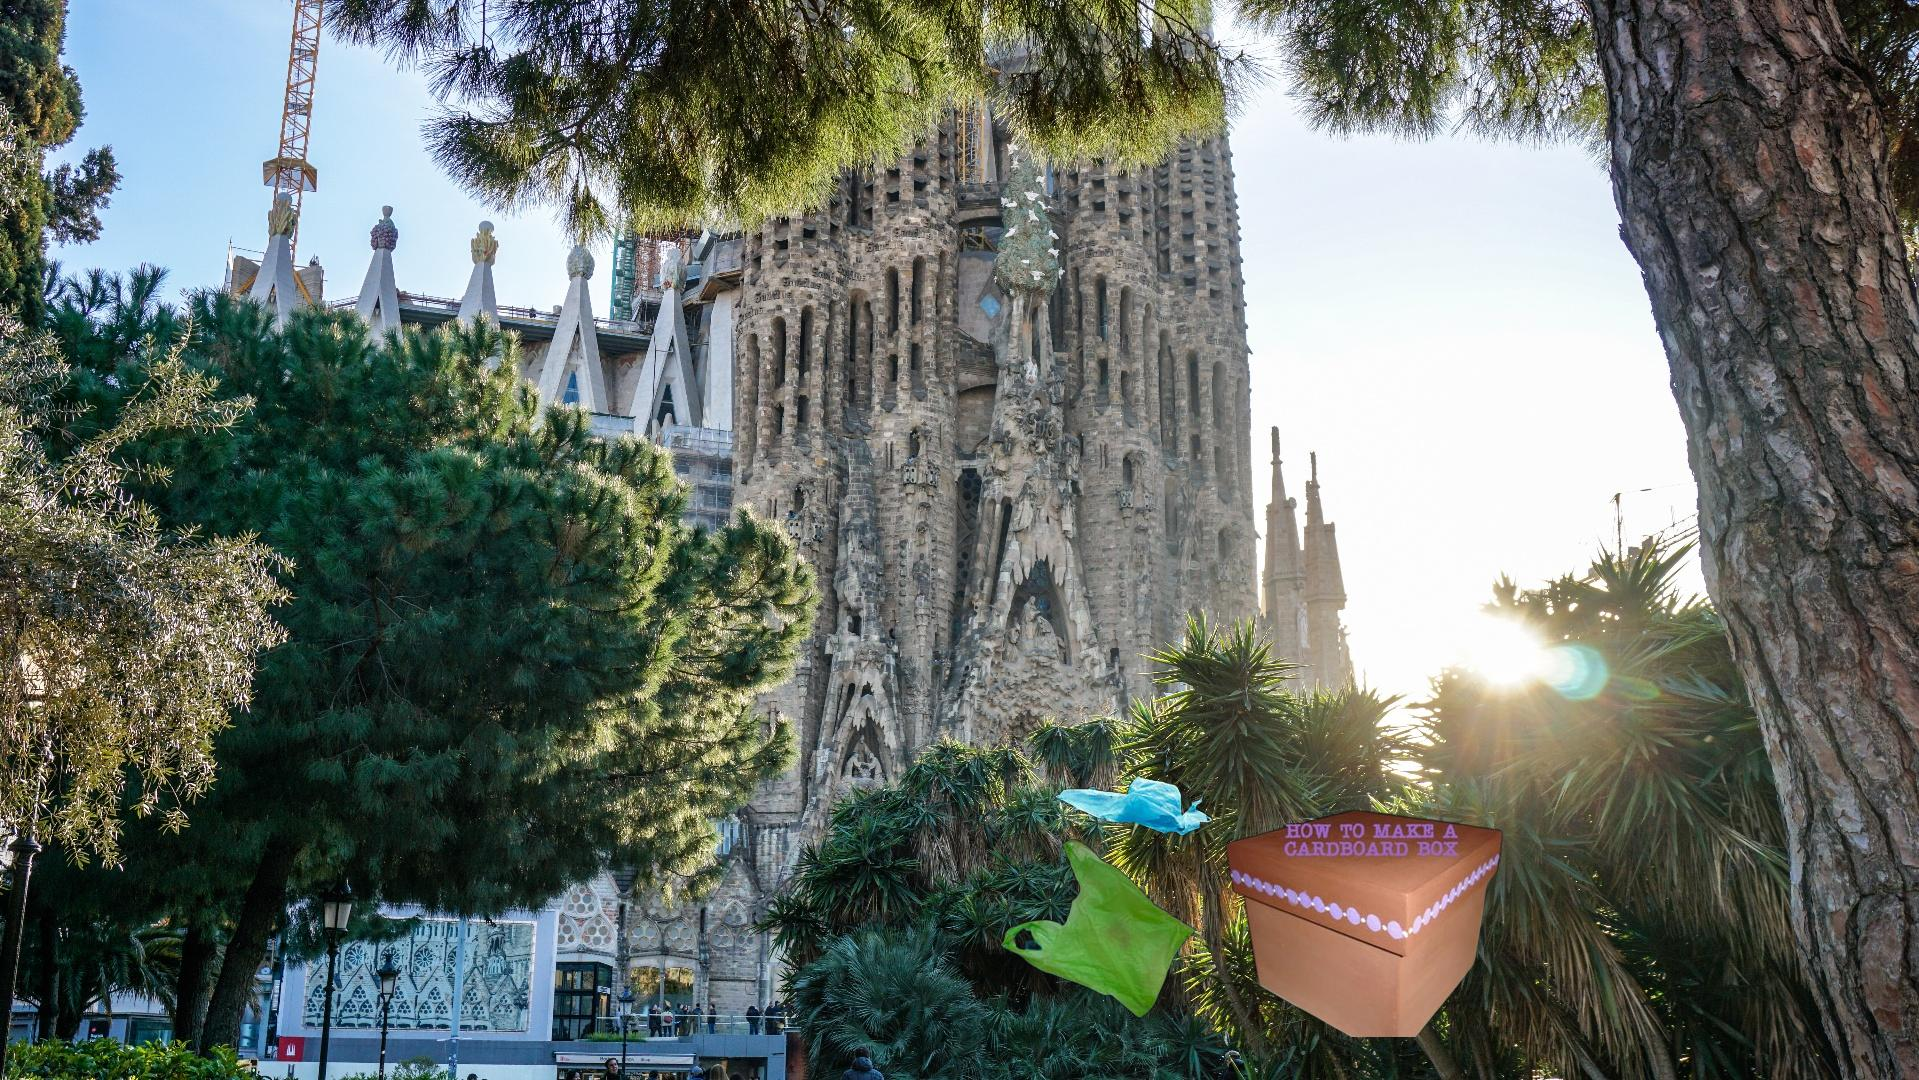plastic-bag: (998, 774, 1214, 1021)
trashbox-cardboard: (1223, 807, 1504, 1036)
